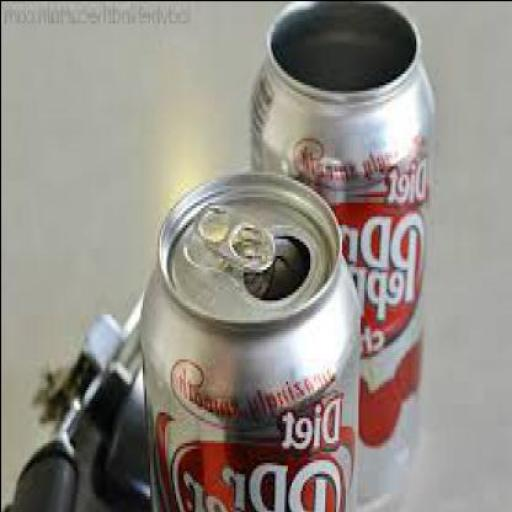metal: (248, 0, 434, 510), (142, 165, 360, 509)
